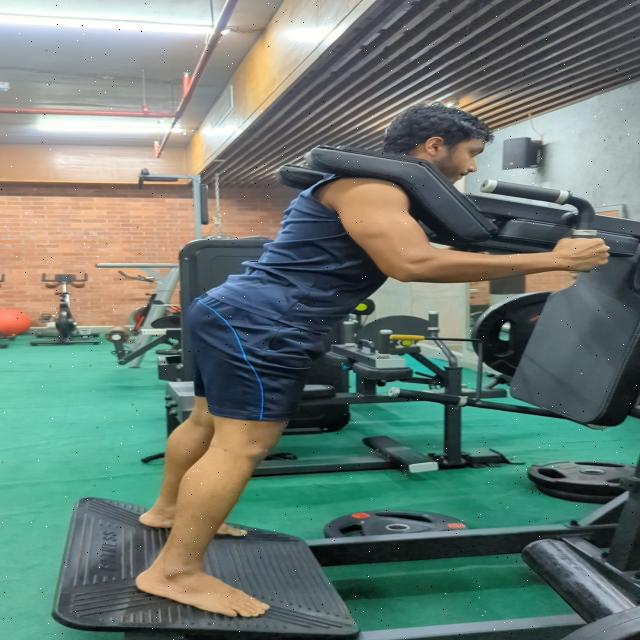Normal_SquatsWithBarbell: (0, 77, 640, 638)
